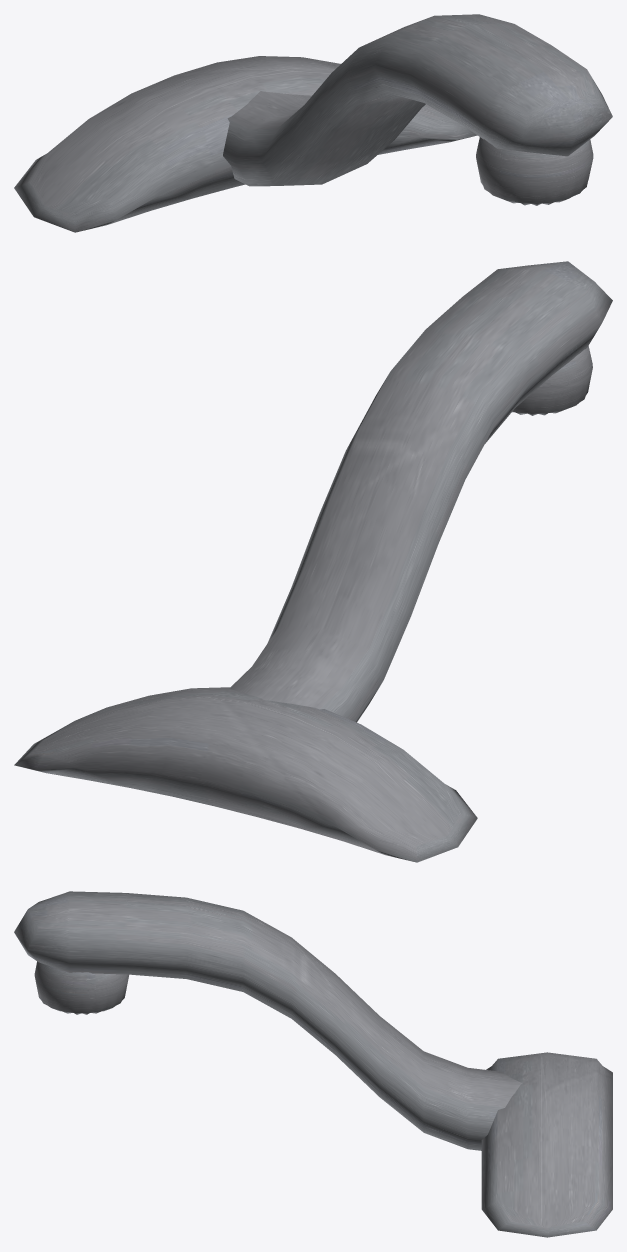
The model's file is Sink Faucet.fbx.
The picture shows the model from 3 angles, top to bottom: view 1: azimuth 30°, elevation 25°; view 2: azimuth 150°, elevation 25°; view 3: azimuth 270°, elevation 25°; orthographic projection. The views are drawn at different scales.
Parts seen in each view (by area): view 1: pCube1, pCube2, pCylinder1; view 2: pCube1, pCube2, pCylinder1; view 3: pCube1, pCube2, pCylinder1.
Part boxes in pixels (bbox=[...]): pCube1: bbox=[223, 14, 612, 186]; pCube2: bbox=[14, 56, 477, 232]; pCylinder1: bbox=[476, 137, 593, 205]; pCube1: bbox=[229, 261, 612, 722]; pCube2: bbox=[14, 687, 477, 862]; pCylinder1: bbox=[512, 346, 592, 415]; pCube1: bbox=[14, 891, 522, 1150]; pCube2: bbox=[481, 1052, 612, 1237]; pCylinder1: bbox=[34, 961, 128, 1014].
Bounding box in the file's own units: 8.68 × 6.06 × 13.08.
